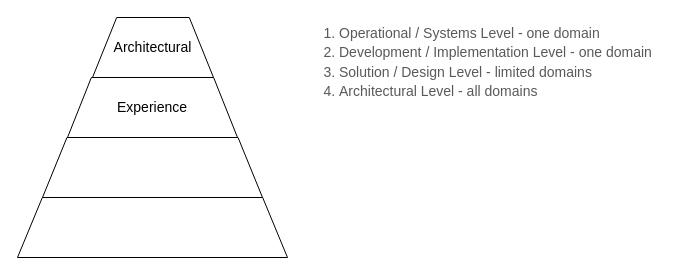
Image size: 700x275. Some labels were removed from this diagram. The shapes that lost their labels are listed below. From the top down, each one's centre as x and y in pixels, then its label:
At pixel 152 167: "Implementation".
At pixel 152 227: "System".
